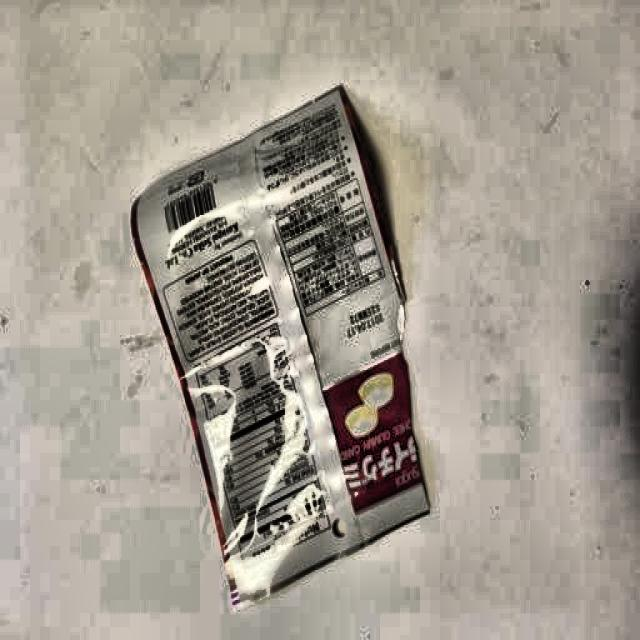trash: (132, 89, 429, 606)
